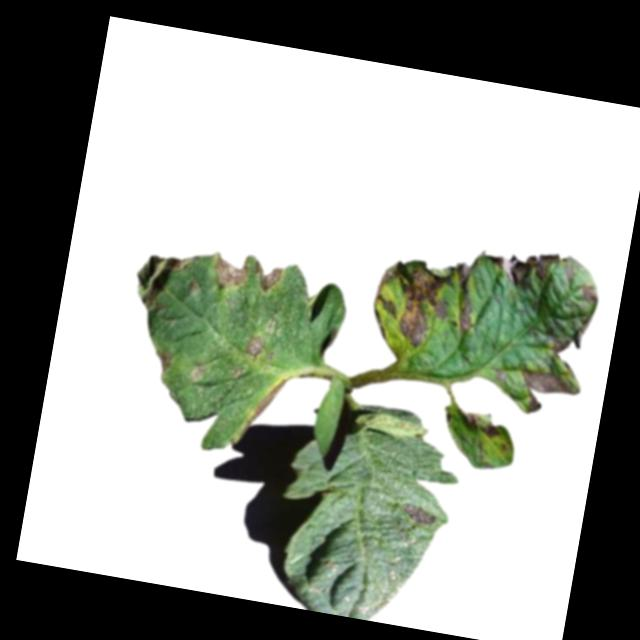Early_blight: (366, 255, 456, 356), (481, 242, 557, 297), (234, 372, 284, 445), (513, 366, 581, 418), (551, 301, 601, 362), (446, 261, 483, 337), (210, 251, 250, 295), (456, 407, 503, 441), (249, 258, 286, 295), (403, 503, 439, 530), (151, 347, 176, 375), (243, 335, 266, 363), (576, 281, 600, 305)
